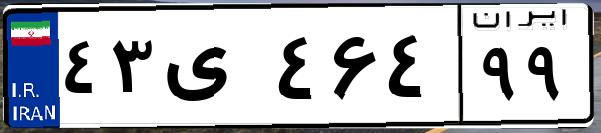3: (110, 28, 158, 98)
4: (270, 28, 330, 110), (385, 28, 445, 110), (57, 26, 110, 100)
6: (330, 28, 385, 110)
9: (475, 38, 525, 113), (525, 38, 570, 115)
ی: (158, 20, 270, 120)
